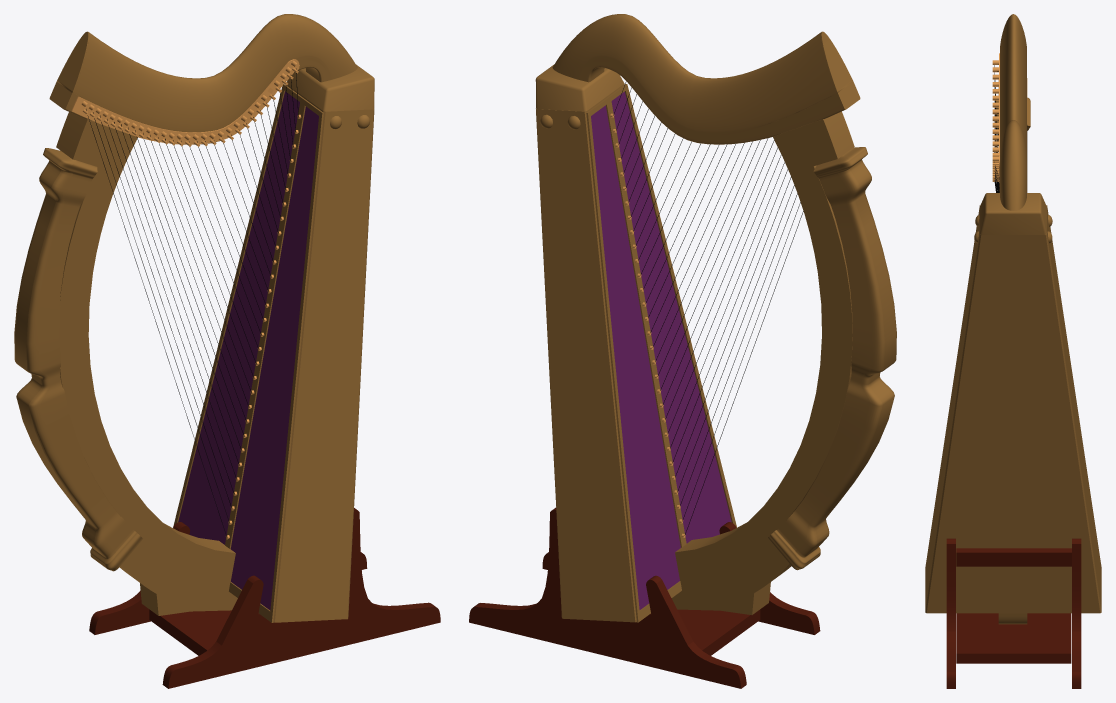
The model's file is C_Harp.fbx.
The picture shows the model from 3 angles, left to right: view 1: azimuth 30°, elevation 25°; view 2: azimuth 150°, elevation 25°; view 3: azimuth 270°, elevation 25°; orthographic projection. The views are drawn at different scales.
Visible parts, largest first — view 1: S_box, S_board, Pillar, Pillar_d, H_curve, Stand01, S_edge, S_mid, S_top, peg_brd, Stand04, Stand02 (+1 smaller); view 2: S_box, S_board, Pillar, H_curve, Pillar_d, Stand02, S_edge, S_mid, S_top, Stand04, Stand01, H_end; view 3: S_box, Stand04, H_curve, S_top, Stand03, Stand01, Stand02, Pillar, S_edge.
Part boxes in pixels (<box>): S_box: <box>273,85,374,622</box>; S_board: <box>178,91,318,610</box>; Pillar: <box>56,112,237,615</box>; Pillar_d: <box>14,148,142,571</box>; H_curve: <box>65,14,357,144</box>; Stand01: <box>162,508,440,688</box>; S_edge: <box>173,84,323,622</box>; S_mid: <box>225,102,305,548</box>; S_top: <box>287,64,374,111</box>; peg_brd: <box>71,59,299,144</box>; Stand04: <box>149,609,231,655</box>; Stand02: <box>89,522,367,634</box>; S_box: <box>536,83,636,622</box>; S_board: <box>591,91,731,609</box>; Pillar: <box>671,111,854,614</box>; H_curve: <box>552,14,844,144</box>; Pillar_d: <box>768,147,896,570</box>; Stand02: <box>469,507,746,688</box>; S_edge: <box>586,84,736,622</box>; S_mid: <box>606,101,686,547</box>; S_top: <box>535,64,624,111</box>; Stand04: <box>677,609,760,655</box>; Stand01: <box>542,522,820,634</box>; H_end: <box>821,31,860,109</box>; S_box: <box>925,206,1101,613</box>; Stand04: <box>956,613,1071,663</box>; H_curve: <box>1000,14,1026,210</box>; S_top: <box>979,193,1046,234</box>; Stand03: <box>956,548,1071,566</box>; Stand01: <box>946,538,955,688</box>; Stand02: <box>1072,538,1081,688</box>; Pillar: <box>998,78,1027,624</box>; S_edge: <box>925,205,1101,568</box>.
Size of the model in its own units: 92.43 by 148 by 43.47.
